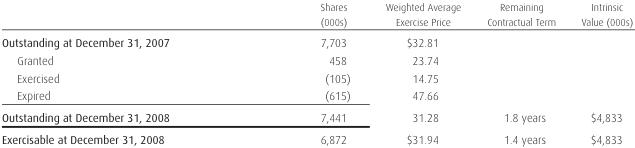table: (0, 0, 632, 145)
table column: (0, 0, 244, 145), (244, 0, 367, 145), (367, 0, 473, 145), (473, 0, 567, 145), (567, 0, 632, 145)
table column header: (0, 0, 632, 31)
table row: (0, 0, 632, 31), (0, 106, 632, 128), (0, 86, 632, 106), (0, 31, 632, 50), (0, 50, 632, 68), (0, 68, 632, 86), (0, 128, 632, 145)
